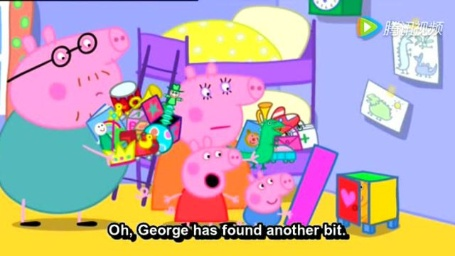Peppa: (162, 138, 245, 225)
